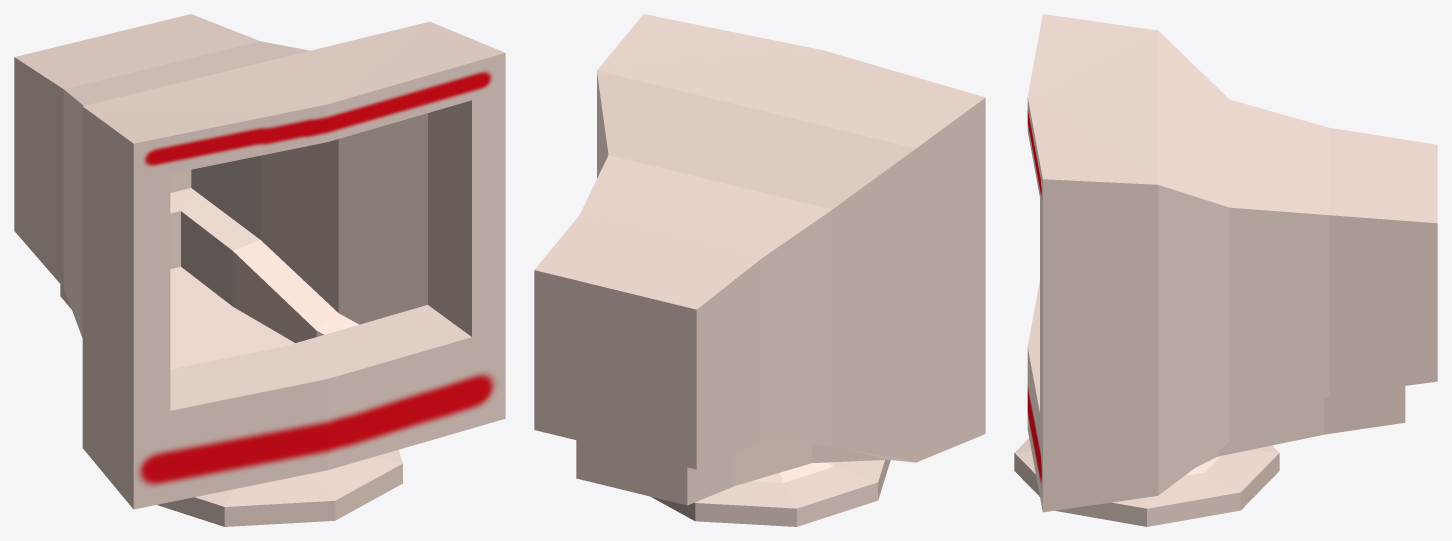
Rendered from crt2.glb.
3 renders of one model, left to right at view 1: azimuth 30°, elevation 25°; view 2: azimuth 150°, elevation 25°; view 3: azimuth 270°, elevation 25°, orthographic. The views are drawn at different scales.
Visible parts, largest first — view 1: SM_Prop_Monitor_Crt_01; view 2: SM_Prop_Monitor_Crt_01; view 3: SM_Prop_Monitor_Crt_01.
Part boxes in pixels (<box>): SM_Prop_Monitor_Crt_01: <box>14,14,505,526</box>; SM_Prop_Monitor_Crt_01: <box>534,14,985,526</box>; SM_Prop_Monitor_Crt_01: <box>1014,14,1437,526</box>.
Size of the model in its own units: 5.91 by 6.24 by 6.4.
Materials: 1 (1 with a texture image).
